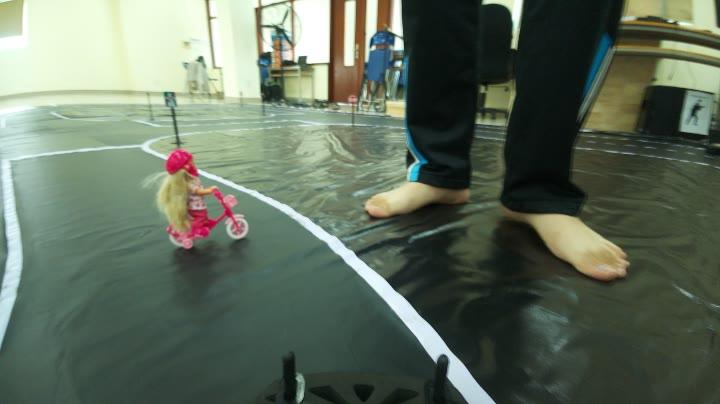pedestrian: (147, 153, 259, 248)
